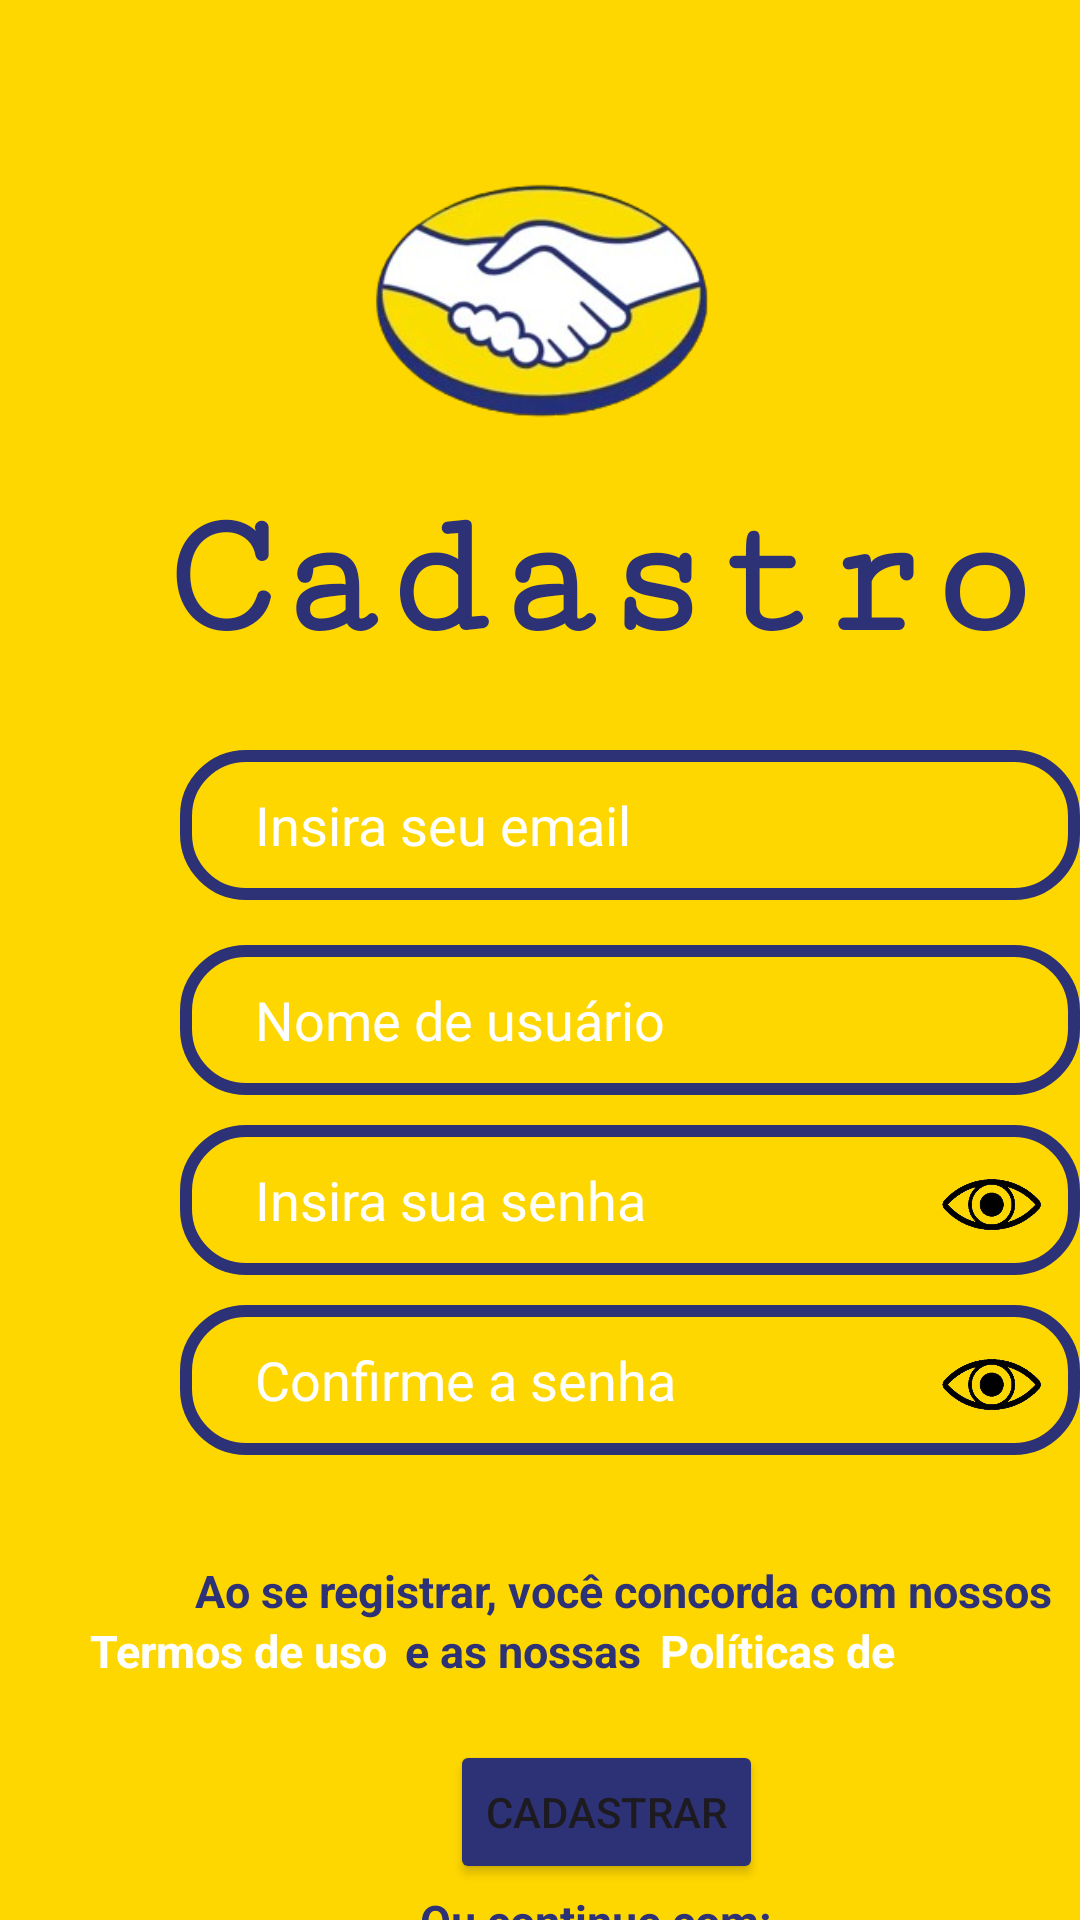

Named icons in this screenshot (1080w x 1920h) and their centers, point (x, y):
olho aberto: point (991, 1204), point (991, 1384)
